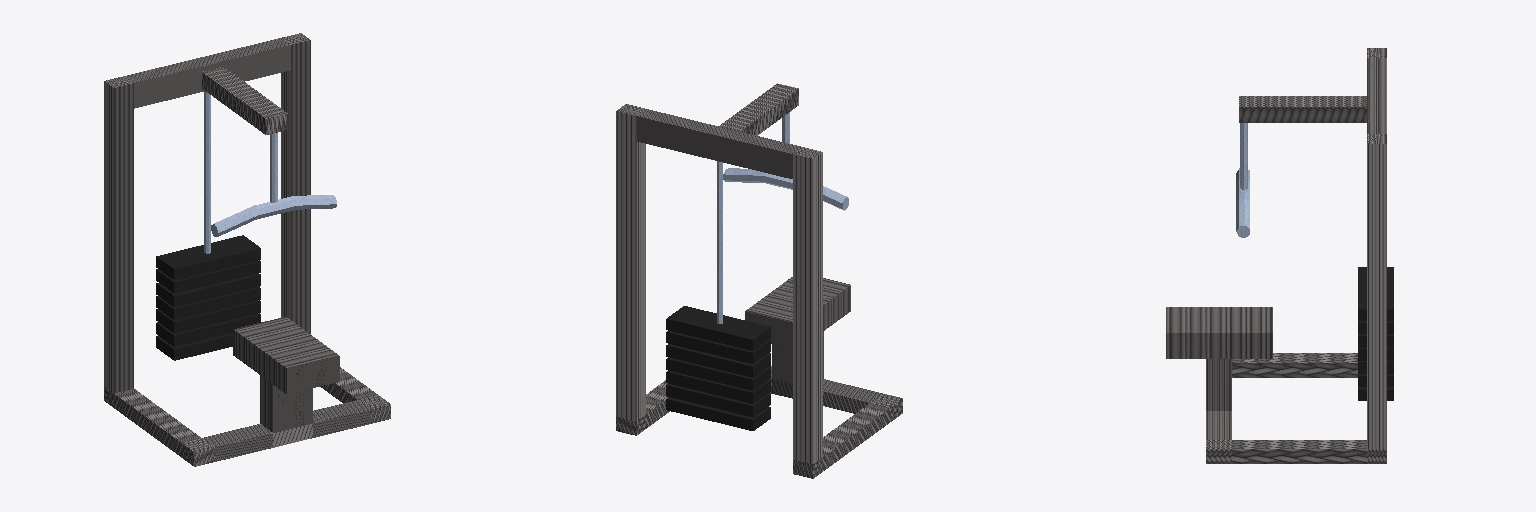
3 renders of one model, left to right at view 1: azimuth 30°, elevation 25°; view 2: azimuth 150°, elevation 25°; view 3: azimuth 270°, elevation 25°, orthographic.
Parts seen in each view (by area): view 1: Box001, Box009, Box002, Cylinder002, Box004, Box003, Box005, Box006, Box007, Cylinder001, Box008, Cylinder003; view 2: Box001, Box002, Box009, Box008, Box004, Box007, Box003, Box005, Box006, Cylinder002, Cylinder001; view 3: Box001, Box009, Box002, Cylinder002, Cylinder003.
Part boxes in pixels (x1,y1,x2,y2): Box001: (104,33,390,466); Box009: (202,67,287,134); Box002: (156,235,260,280); Cylinder002: (211,195,336,236); Box004: (156,273,260,306); Box003: (156,260,260,293); Box005: (156,287,260,320); Box006: (156,300,260,333); Box007: (156,313,260,346); Cylinder001: (204,91,210,253); Box008: (156,333,232,360); Cylinder003: (270,133,277,202); Box001: (616,104,902,478); Box002: (666,306,770,350); Box009: (719,83,798,135); Box008: (666,397,770,430); Box004: (666,344,770,377); Box007: (666,384,770,417); Box003: (666,331,770,363); Box005: (666,357,770,390); Box006: (666,370,770,403); Cylinder002: (723,168,848,210); Cylinder001: (717,161,722,323); Box001: (1166,48,1386,463); Box009: (1239,96,1366,122); Box002: (1358,267,1393,320); Cylinder002: (1236,168,1249,237); Cylinder003: (1240,123,1247,189).
Size of the model in its own units: 101 by 156 by 101.
3 materials, 3 textured.